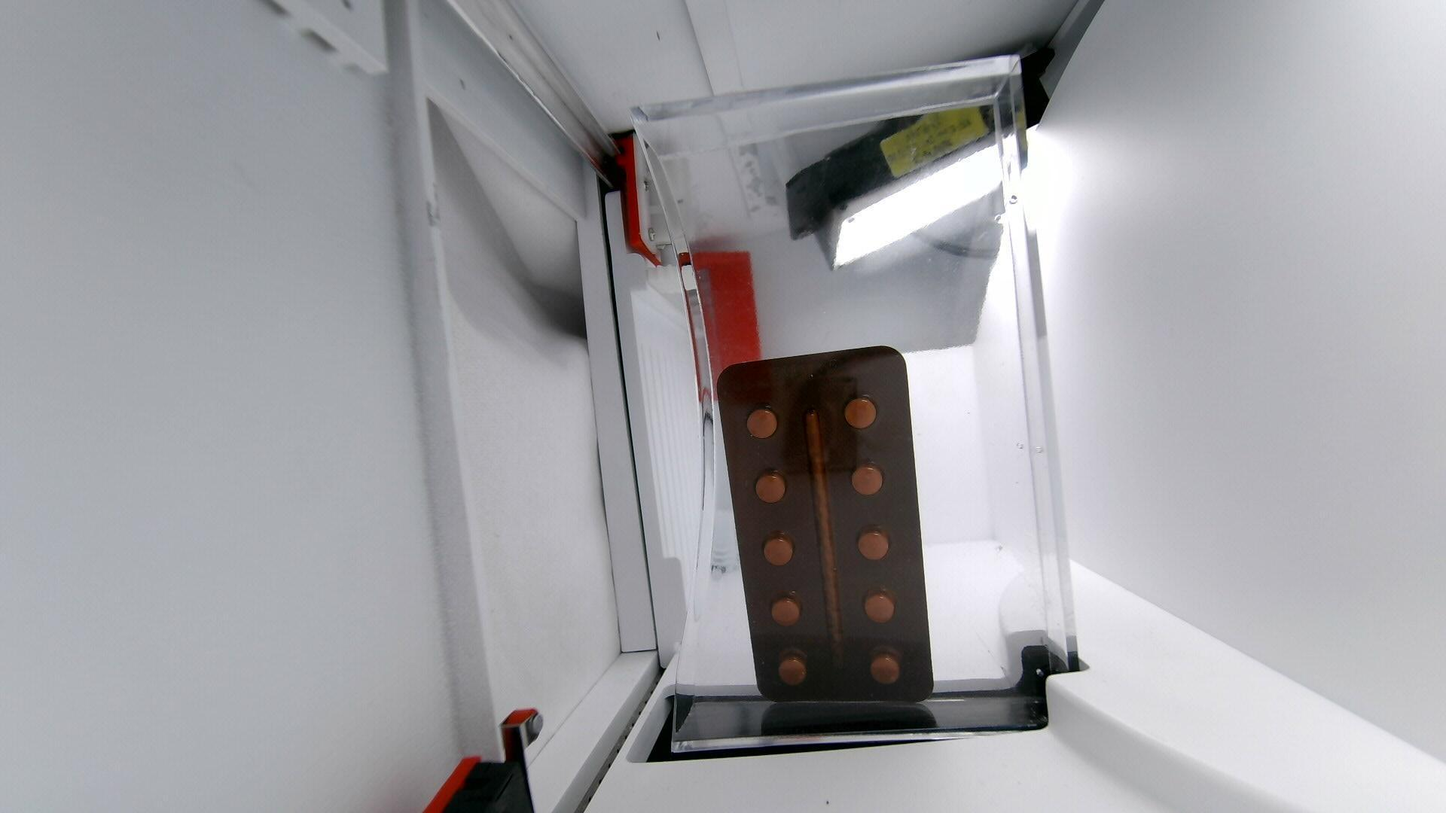Light Front: (715, 346, 936, 705)
Pill Front: (837, 394, 877, 428), (755, 469, 788, 503), (745, 404, 777, 439), (778, 650, 807, 686), (771, 592, 801, 626), (764, 531, 793, 565), (857, 530, 889, 560), (852, 466, 882, 495), (867, 593, 894, 622), (870, 653, 897, 681), (905, 378, 908, 381)
